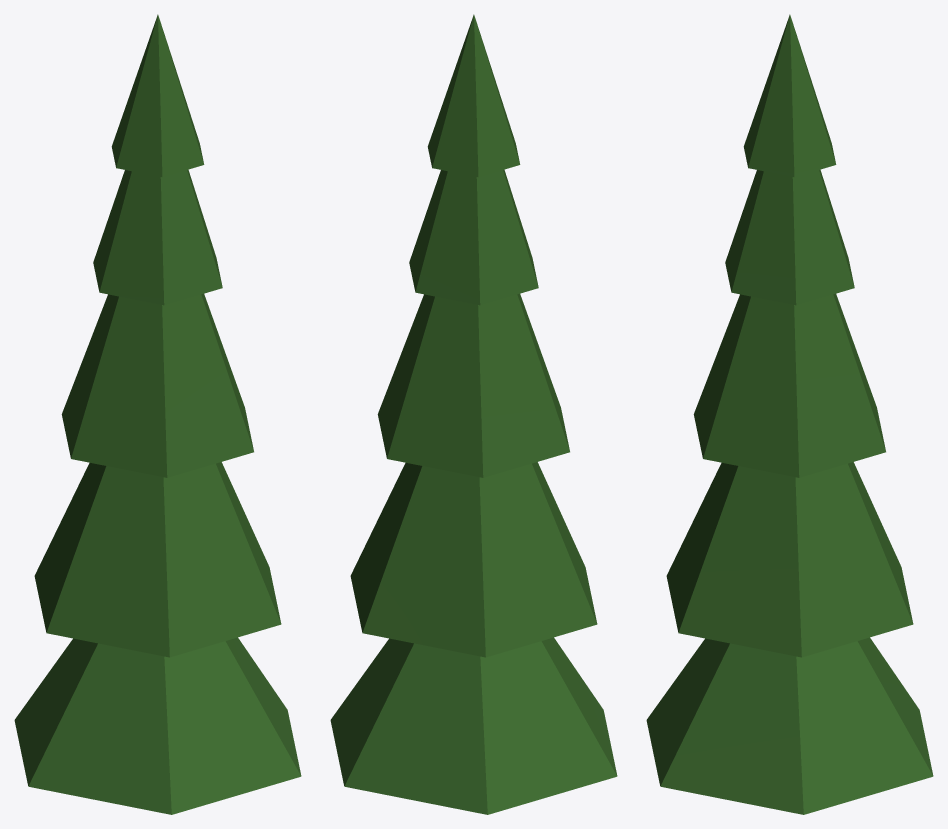
File: pine_large.fbx
3 views of the same model, side by side, from view 1: azimuth 30°, elevation 25°; view 2: azimuth 150°, elevation 25°; view 3: azimuth 270°, elevation 25° (orthographic).
Visible parts, largest first — view 1: pine_large; view 2: pine_large; view 3: pine_large.
Part boxes in pixels (x1,y1,x2,y2): pine_large: (14, 14, 301, 814); pine_large: (330, 14, 617, 814); pine_large: (646, 14, 933, 814).
Size of the model in its own units: 1.65 by 4.5 by 1.5.
